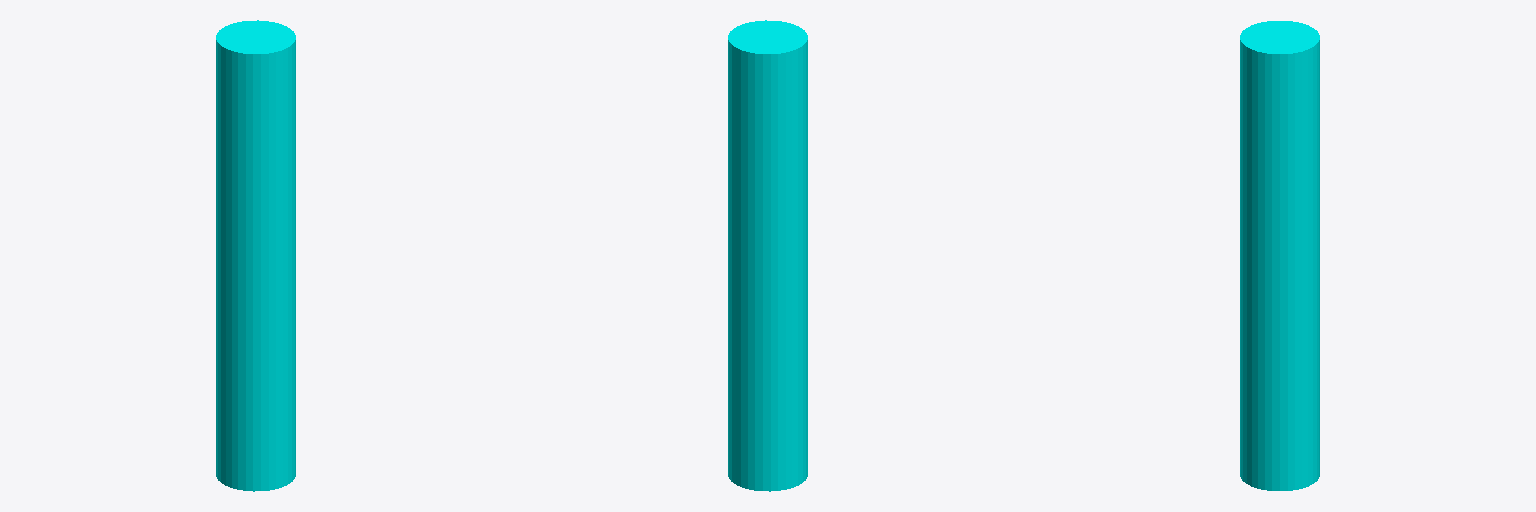
The robot description file, URDF, robot "cylindrical_1dof_robot":
<?xml version="1.0"?>
<robot name="cylindrical_1dof_robot">

  <link name="link1">
    <inertial>
      <mass value="1"/>
      <inertia ixx="0.0325" ixy="0.0" ixz="0.0" iyy="0.0325" iyz="0.0" izz="0.005"/>
      <origin xyz="0 0 0.3"/>
    </inertial>
    <visual>
      <origin xyz="0 0 0.3" rpy="0 0 0"/>
      <geometry>
        <cylinder length="0.6" radius="0.1"/>
      </geometry>
     <material name="Cyan">
       <color rgba="0 1.0 1.0 1.0"/>
     </material>
    </visual>
    <collision>
      <geometry>
        <cylinder length="0.6" radius="0.1"/>
      </geometry>
      <origin xyz="0 0 0.3"/>
    </collision>
  </link>

  <link name="link2">
    <inertial>
      <mass value="1"/>
      <inertia ixx="0.0325" ixy="0.0" ixz="0.0" iyy="0.0325" iyz="0.0" izz="0.005"/>
      <origin xyz="0 0 0.3"/>
    </inertial>
    <visual>
      <origin xyz="0 0 0.3" rpy="0 0 0"/>
      <geometry>
        <cylinder length="0.6" radius="0.1"/>
      </geometry>
     <material name="Cyan">
       <color rgba="0 1.0 1.0 1.0"/>
     </material>
    </visual>
    <collision>
      <geometry>
        <cylinder length="0.6" radius="0.1"/>
      </geometry>
      <origin xyz="0 0 0.3"/>
    </collision>
  </link>

  <joint name="joint1" type="revolute">
    <parent link="link1"/>
    <child link="link2"/>
    <origin xyz="0 0 0.6" rpy="0 0 0"/>
    <limit effort="30" velocity="1.0" lower="-1.5708" upper="1.5708" />
  </joint>

</robot>

--- Facts derived from the render (not from the file) ---
The picture shows the robot from 3 angles, left to right: view 1: azimuth 30°, elevation 25°; view 2: azimuth 150°, elevation 25°; view 3: azimuth 270°, elevation 25°; orthographic projection.
Robot: cylindrical_1dof_robot — 2 links, 1 joints (1 revolute); root link link1; default pose: all joints at 0.
Visible links, largest first — view 1: link2, link1; view 2: link2, link1; view 3: link2, link1.
Boxes of the visible links, bbox=[...] form: link2: bbox=[216, 20, 295, 272]; link1: bbox=[216, 259, 295, 491]; link2: bbox=[728, 20, 807, 272]; link1: bbox=[728, 259, 807, 491]; link2: bbox=[1240, 21, 1319, 272]; link1: bbox=[1240, 259, 1319, 490].
Size in the robot's own frame: 0.2 by 0.2 by 1.2 metres.
Geometry: primitives only (box / cylinder / sphere), no mesh files.